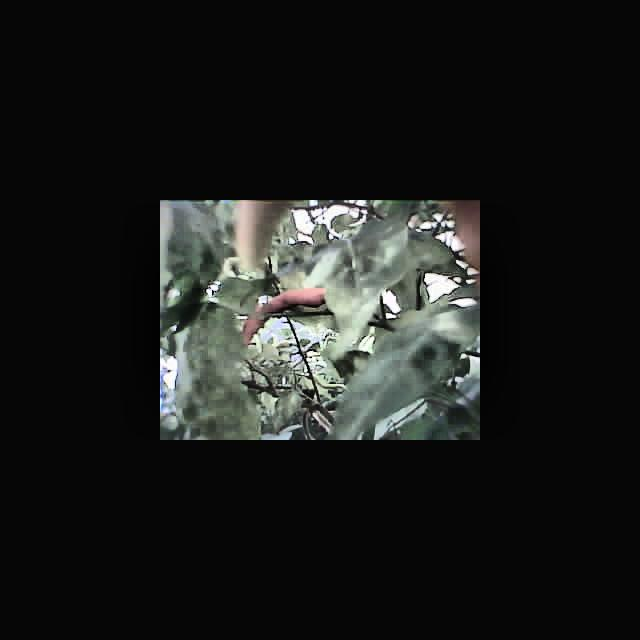Cabai: (241, 287, 326, 334)
